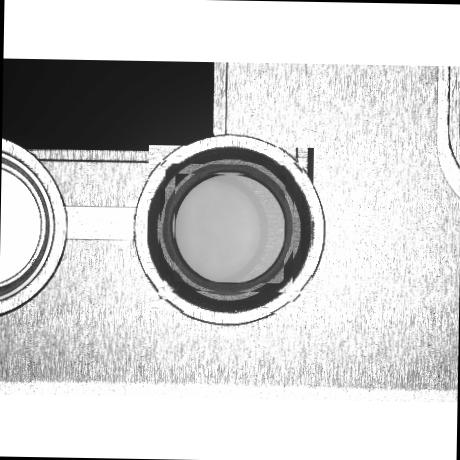Hole: (146, 145, 314, 313)
Hole2: (158, 160, 302, 302)
Hole3: (163, 162, 295, 294)
Hole4: (173, 173, 285, 283)
